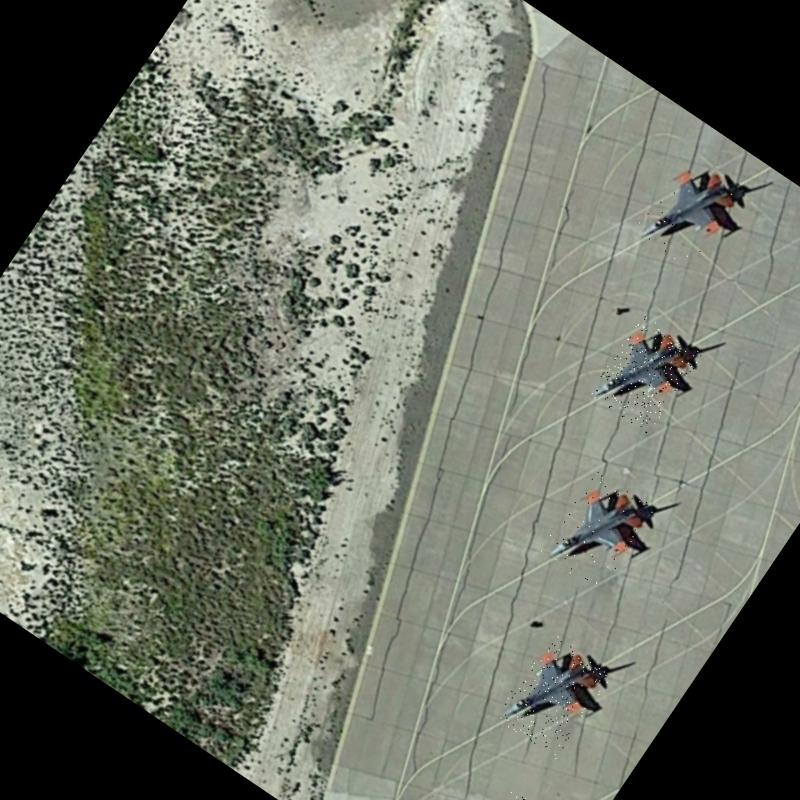A5: (538, 467, 659, 595), (494, 632, 614, 760), (630, 150, 749, 276), (588, 312, 704, 435)
